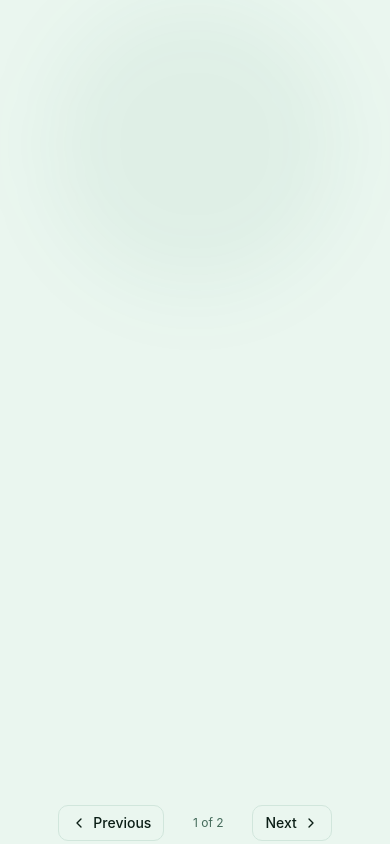
Test: HikerReviews carousel › shows one trail story at a time and cycles with explicit controls
Expected: the text "1 of 2" is shown, [193, 814, 224, 830]
Click the button with aria-label "next trail review". click: (292,822)
box: [252, 804, 332, 840]
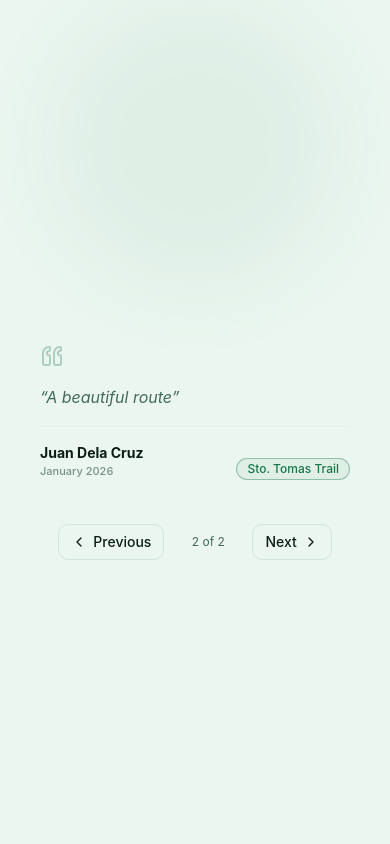
Expected: the text "2 of 2" is shown, [192, 534, 225, 548]
Expected: the text "Juan Dela Cruz" is shown, [40, 443, 144, 463]
